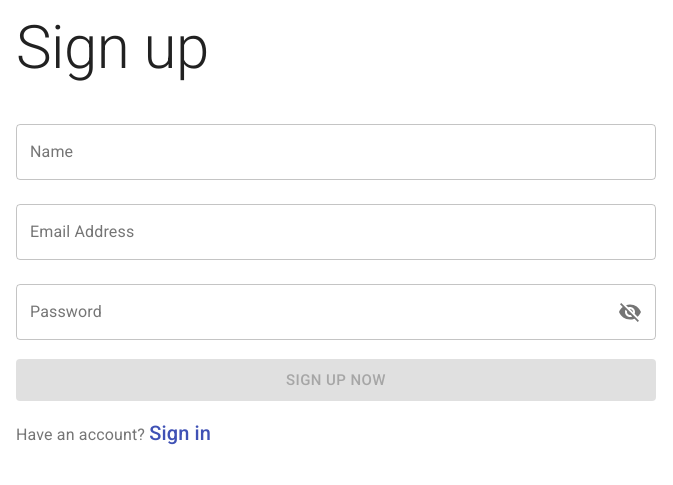
Test: register: after entering a short name then the button should be disabled
In the field next to "Name": (336, 152) [16,124,656,180], type "test"
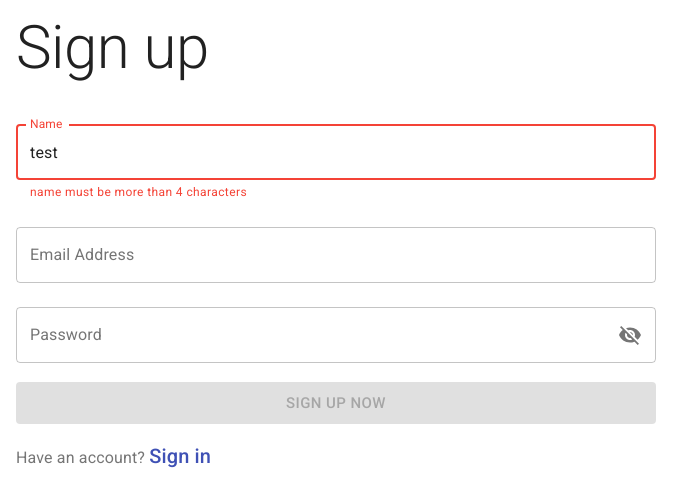
Expected: the button "Sign up now" is disabled, [16,382,656,424]
Expected: the text "name must be more than 4 characters" is shown, [30,185,247,199]
